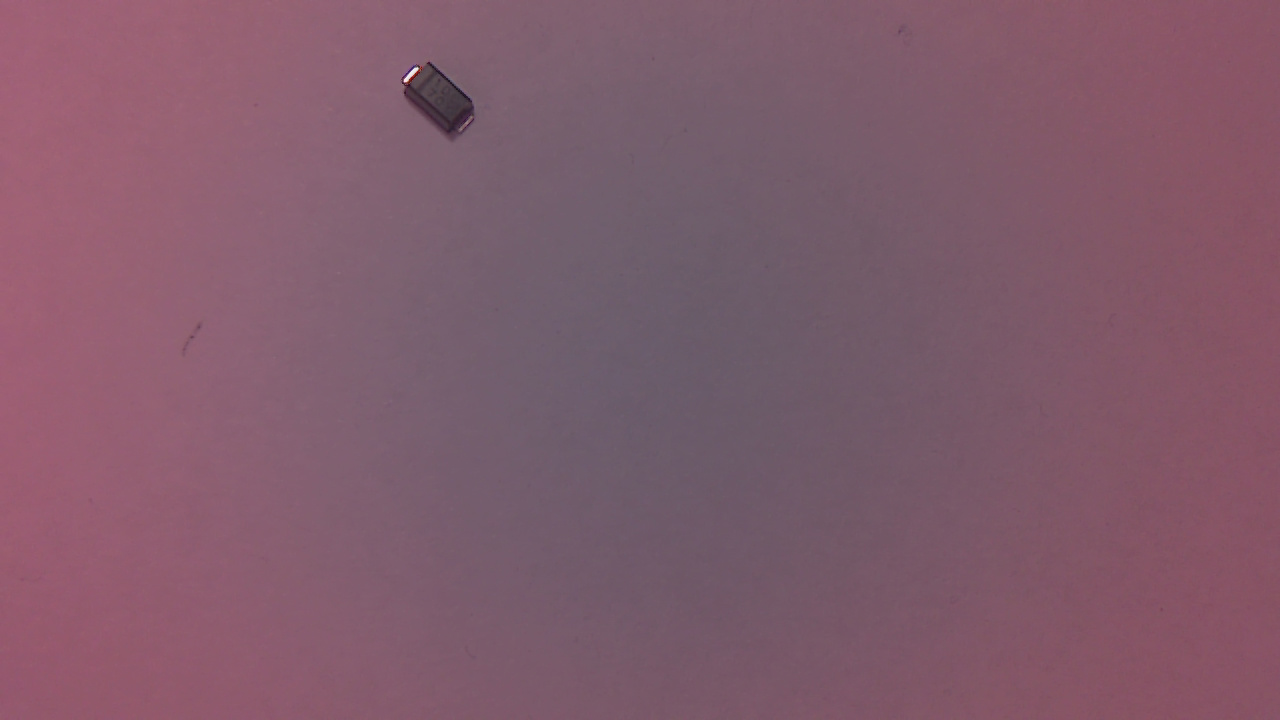Diode: (403, 67, 485, 147)
